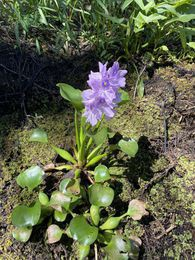water_hyacinth: (8, 59, 154, 259)
